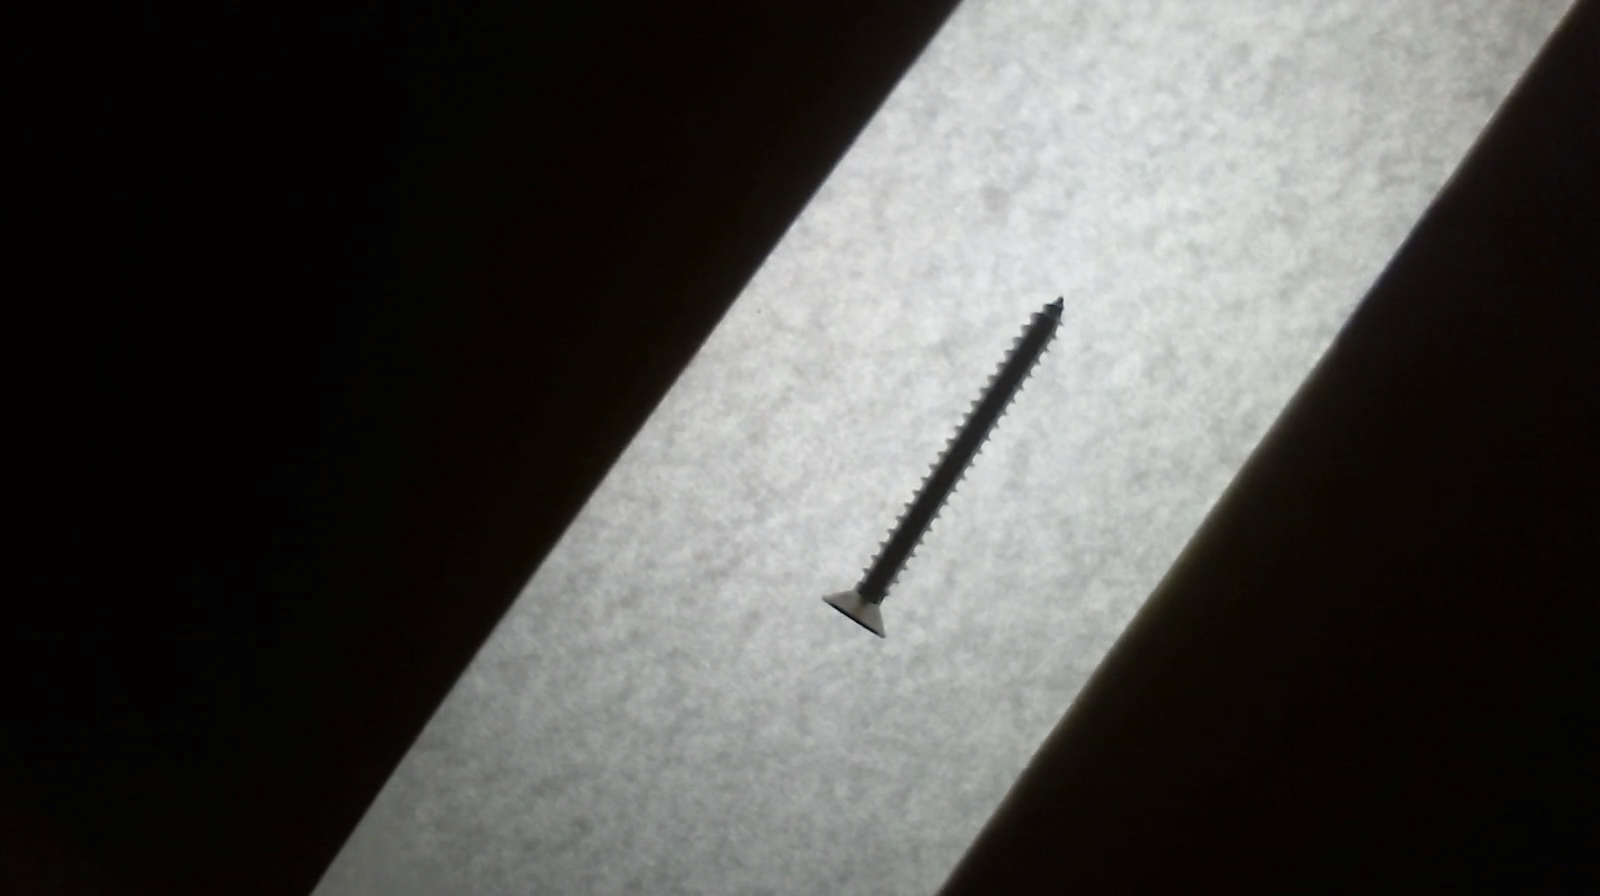S002: (787, 268, 1111, 662)
